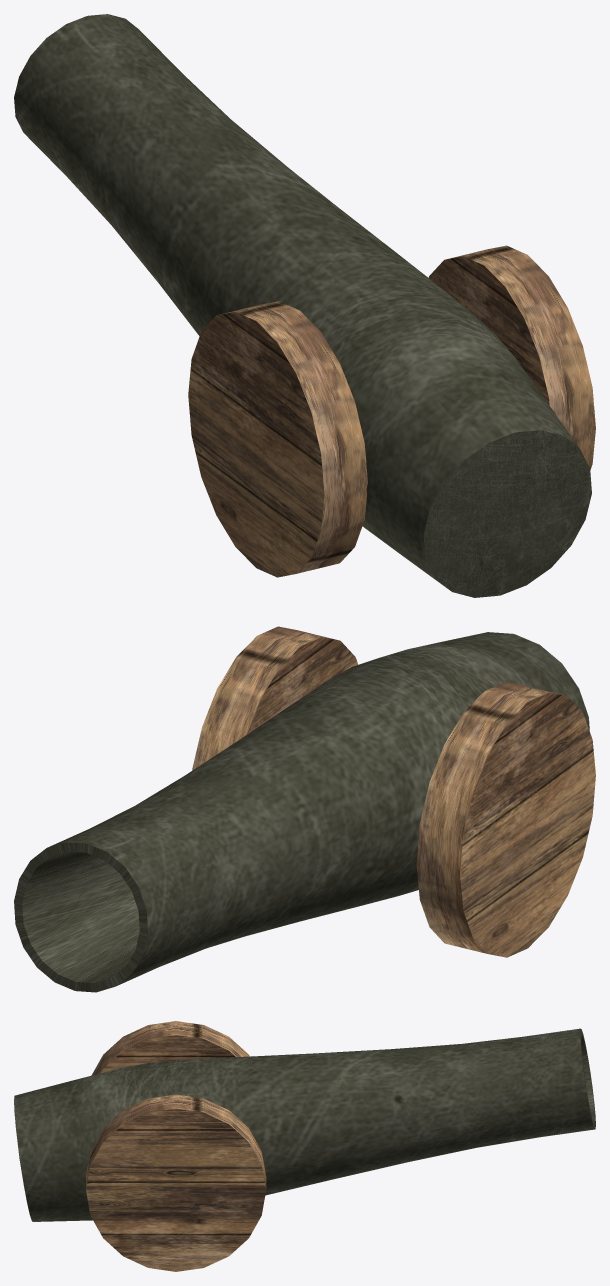
File: gun.fbx
3 renders of one model, top to bottom at view 1: azimuth 30°, elevation 25°; view 2: azimuth 150°, elevation 25°; view 3: azimuth 270°, elevation 25°, orthographic. The views are drawn at different scales.
Visible parts, largest first — view 1: polySurface3, polySurface2, polySurface1; view 2: polySurface3, polySurface2, polySurface1; view 3: polySurface3, polySurface1, polySurface2.
Boxes of the visible parts, left/top/right/bottom form: polySurface3: left=14, top=14, right=591, bottom=597; polySurface2: left=188, top=301, right=367, bottom=577; polySurface1: left=428, top=245, right=595, bottom=469; polySurface3: left=14, top=632, right=589, bottom=992; polySurface2: left=416, top=682, right=595, bottom=957; polySurface1: left=192, top=626, right=358, bottom=770; polySurface3: left=14, top=1028, right=595, bottom=1221; polySurface1: left=86, top=1094, right=266, bottom=1271; polySurface2: left=91, top=1021, right=249, bottom=1075.
Bounding box in the file's own units: 0.3941 × 0.4098 × 1.11.
